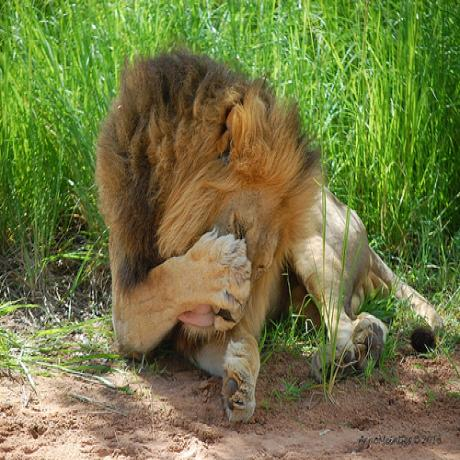Lion: (94, 38, 401, 411)
